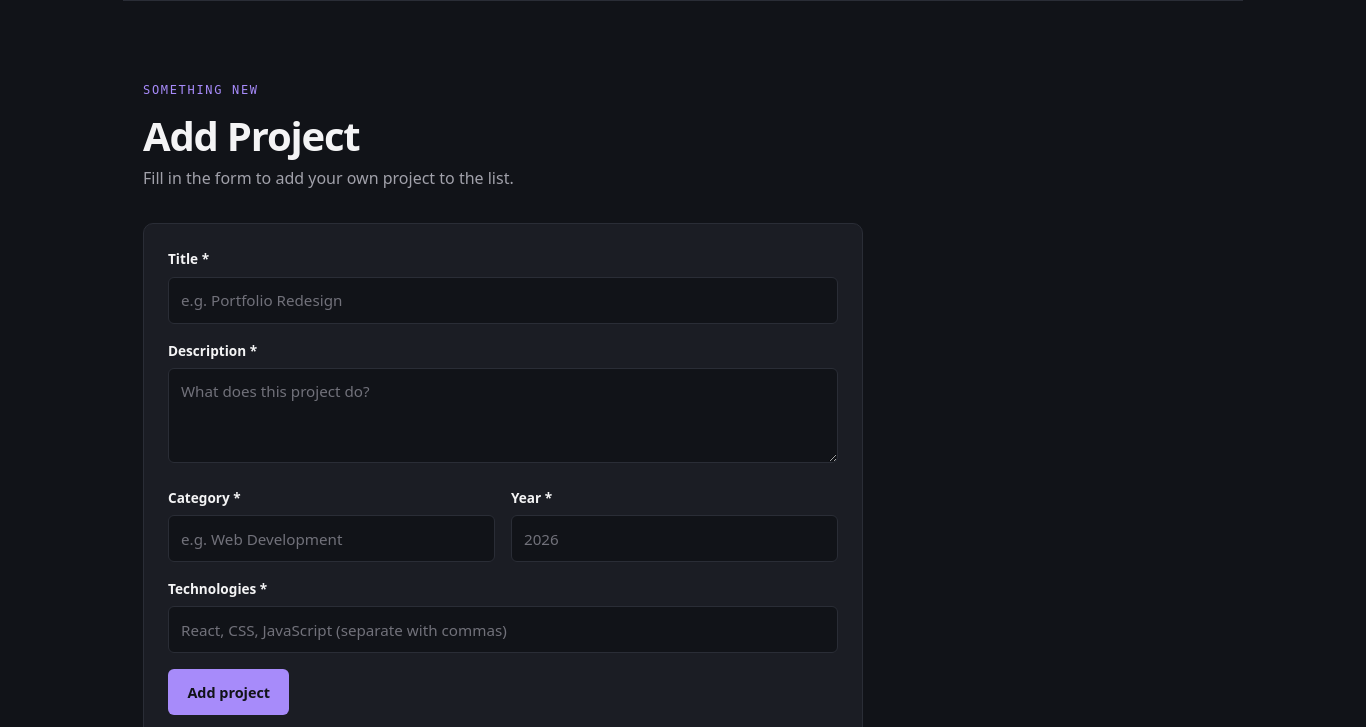
Test: does not submit when required fields are empty
What coordinates should you click on to do the following:
click the button "Add project"
I would click on:
 (229, 692)
Its box is [168, 669, 290, 715].
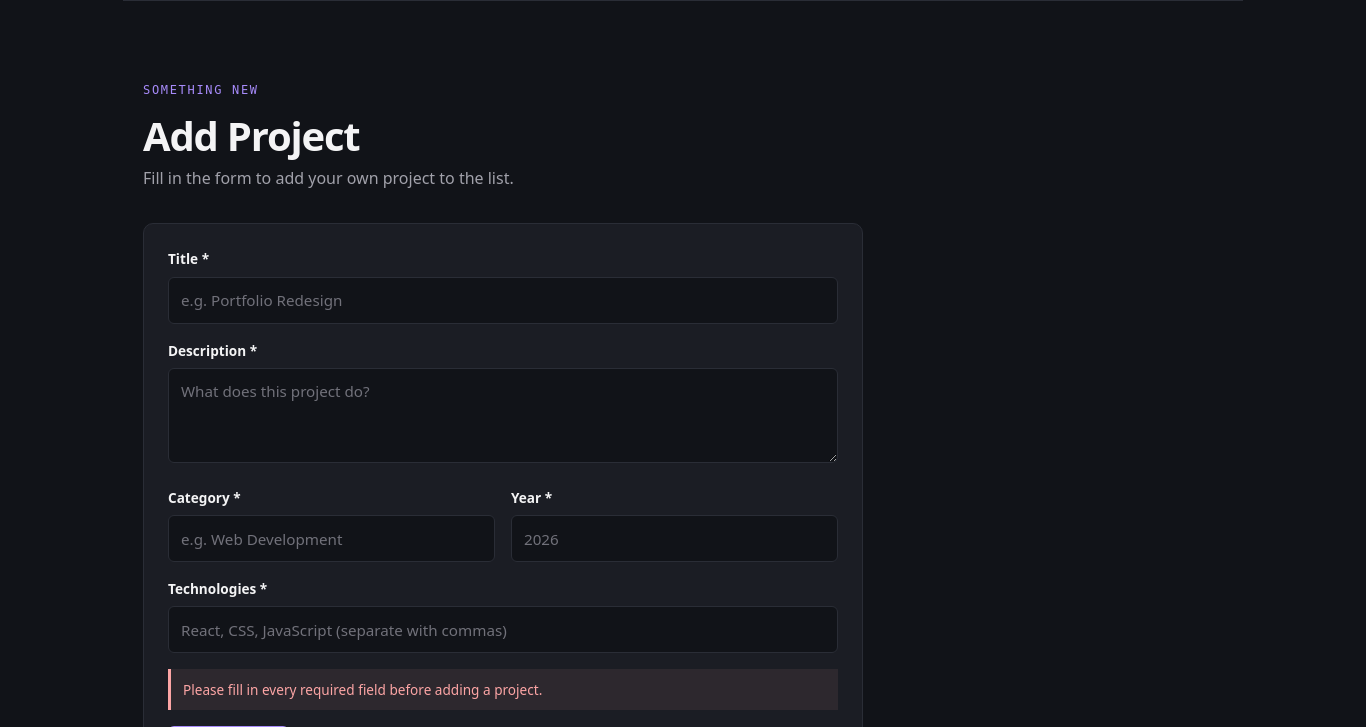
Expected: the message shows "Please fill in every required field", [183, 680, 542, 699]
